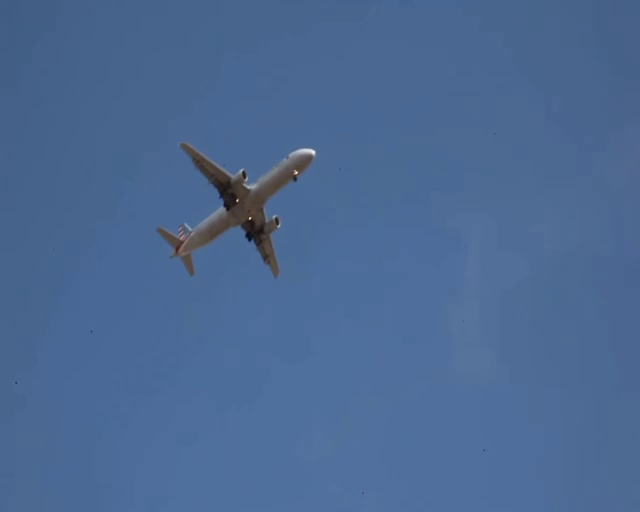AIRPLANE: (161, 140, 315, 277)
